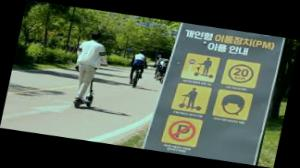nonhelmet: (64, 29, 110, 112)
